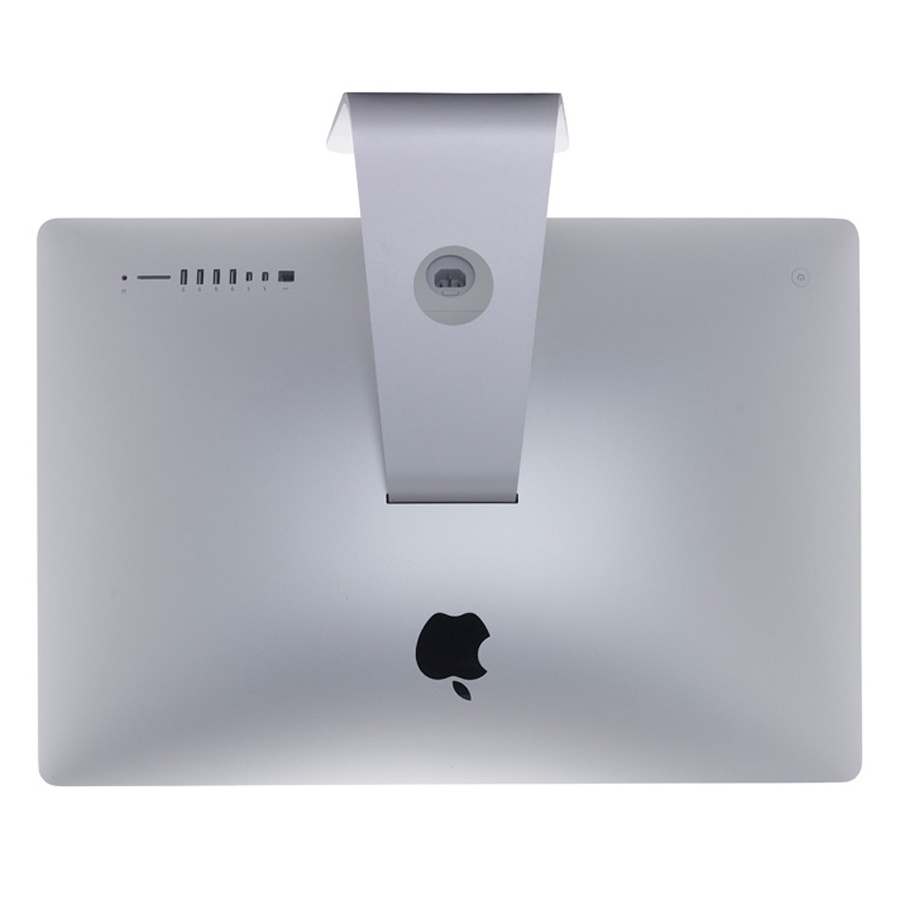Apple: (333, 487, 639, 731)
